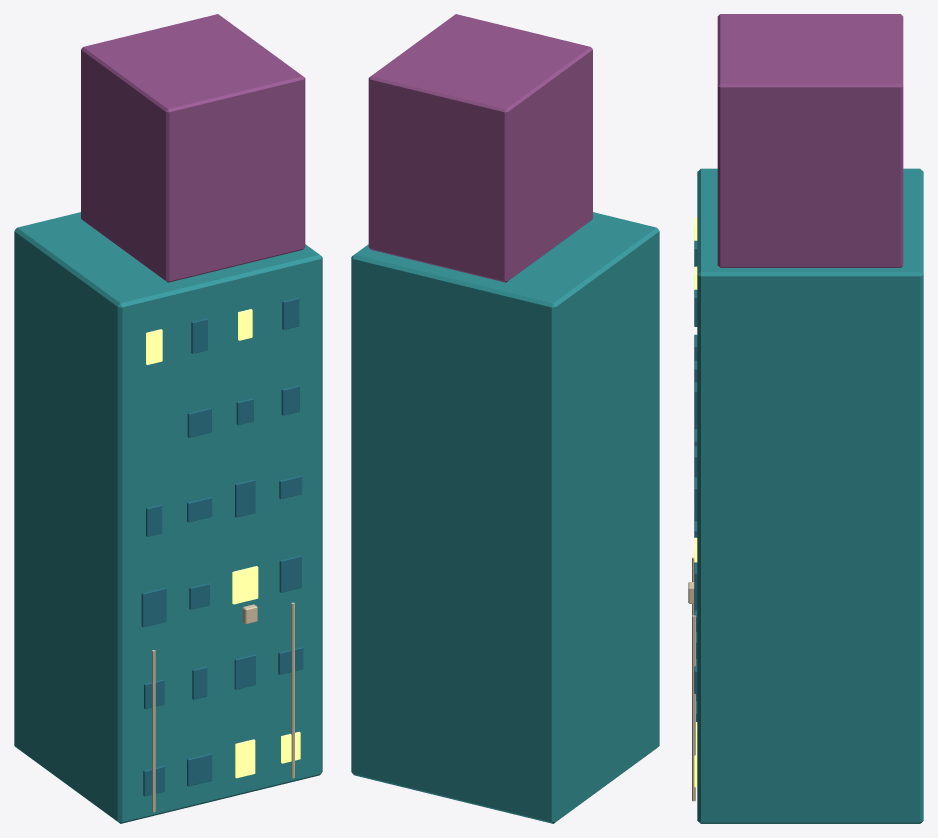
Rendered from building_009_seed11.glb.
The picture shows the model from 3 angles, left to right: view 1: azimuth 30°, elevation 25°; view 2: azimuth 150°, elevation 25°; view 3: azimuth 270°, elevation 25°; orthographic projection. The views are drawn at different scales.
Parts seen in each view (by area): view 1: building_009_seed11; view 2: building_009_seed11; view 3: building_009_seed11.
Boxes of the visible parts, x1,y1,x2,y2 form: building_009_seed11: (14, 14, 322, 823); building_009_seed11: (351, 14, 659, 823); building_009_seed11: (688, 14, 923, 823).
Bounding box in the file's own units: 5.79 × 18.74 × 5.43.
